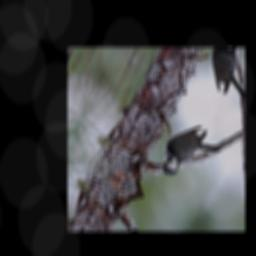Woodpecker: (152, 112, 225, 198)
